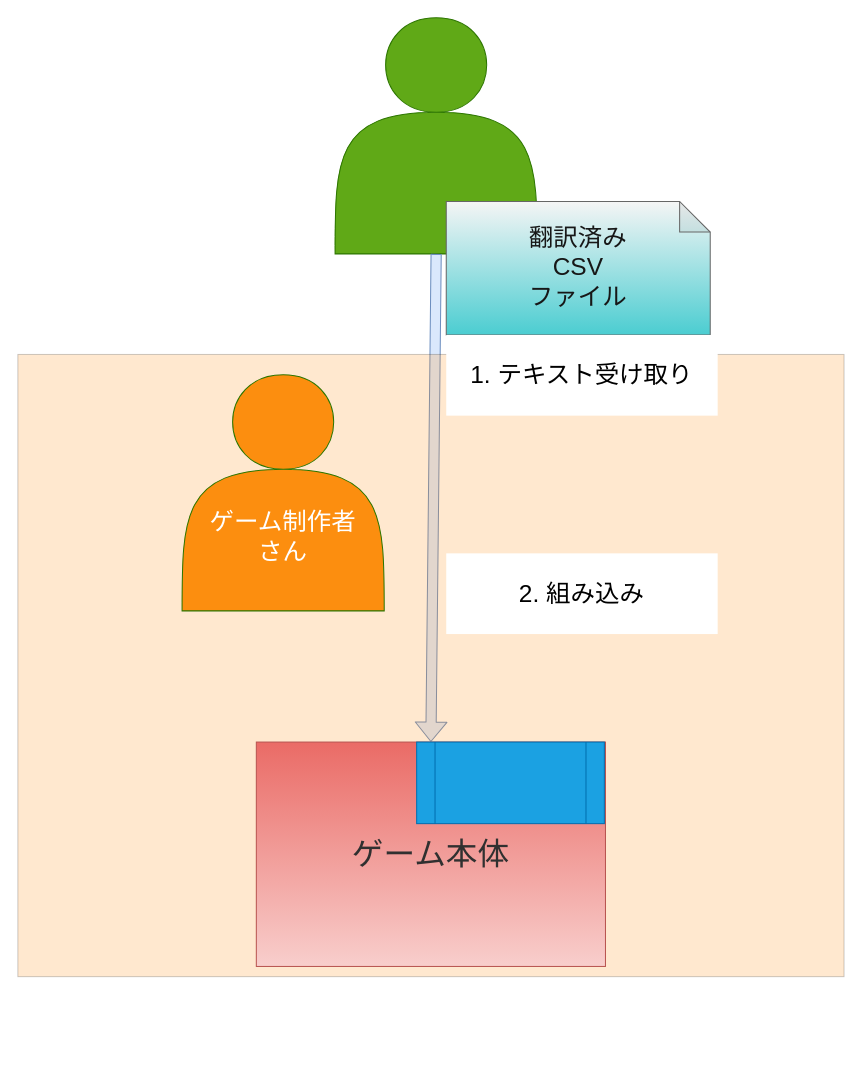
Image size: 862x1085. Some labels were removed from this diagram. The centre of each missing label's shape, as x and y in pixels:
Langscore プラグイン: the point at 510,782
翻訳者さん: the point at 435,135
